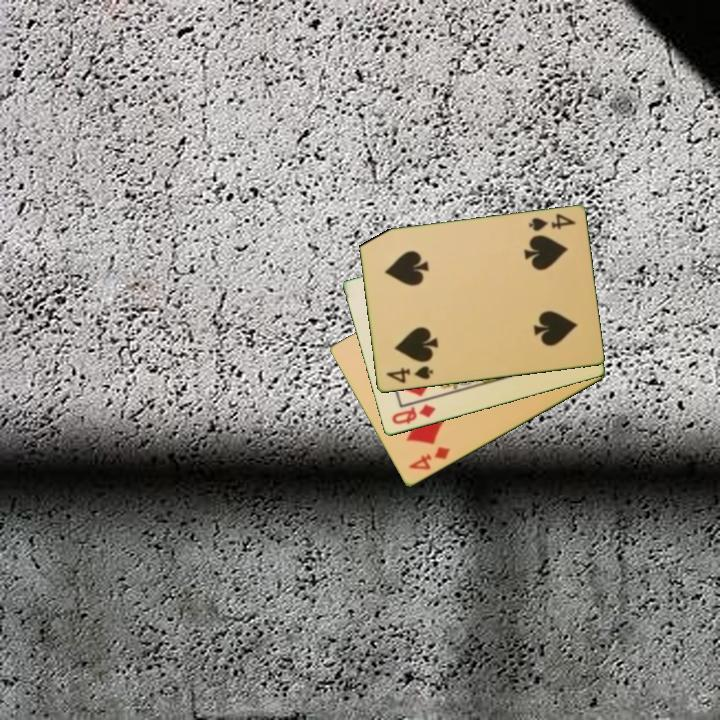4d: (405, 443, 453, 473)
4s: (525, 210, 579, 234), (383, 363, 436, 387)
Qd: (388, 401, 438, 428)
